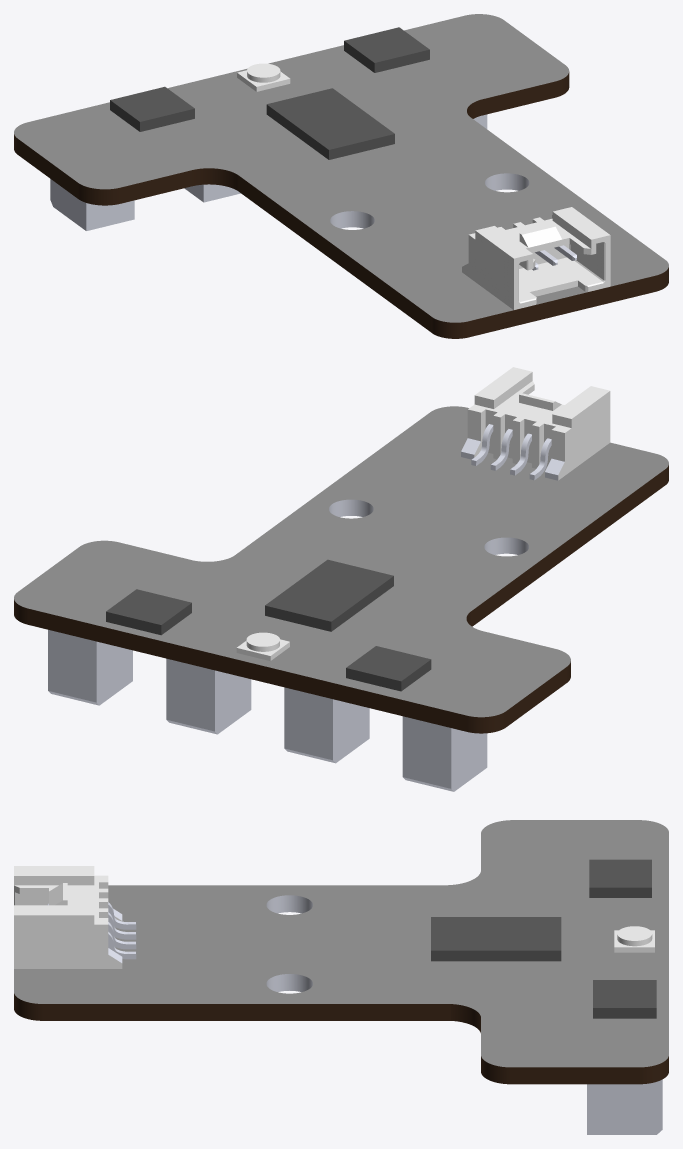
File: ohstem_line_finder_array.glb
3 renders of one model, top to bottom at view 1: azimuth 30°, elevation 25°; view 2: azimuth 150°, elevation 25°; view 3: azimuth 270°, elevation 25°, orthographic. The views are drawn at different scales.
Visible parts, largest first — view 1: Node6, Node3, Node2, Node4, Node1; view 2: Node6, Node1, Node3, Node4, Node2; view 3: Node6, Node3, Node2, Node4, Node1.
Part boxes in pixels (box(x1,y1,x2,y2)): Node6: box(14, 14, 668, 322); Node3: box(14, 72, 668, 338); Node2: box(237, 63, 610, 309); Node4: box(110, 27, 429, 159); Node1: box(50, 114, 576, 270); Node6: box(14, 406, 668, 717); Node1: box(48, 424, 564, 791); Node3: box(14, 465, 668, 733); Node4: box(106, 559, 431, 691); Node2: box(236, 367, 610, 660); Node6: box(14, 820, 668, 1067); Node3: box(14, 993, 668, 1084); Node2: box(14, 866, 654, 968); Node4: box(431, 859, 656, 1018); Node1: box(47, 895, 662, 1134).
Size of the model in its own units: 50.29 by 13.5 by 56.29.
